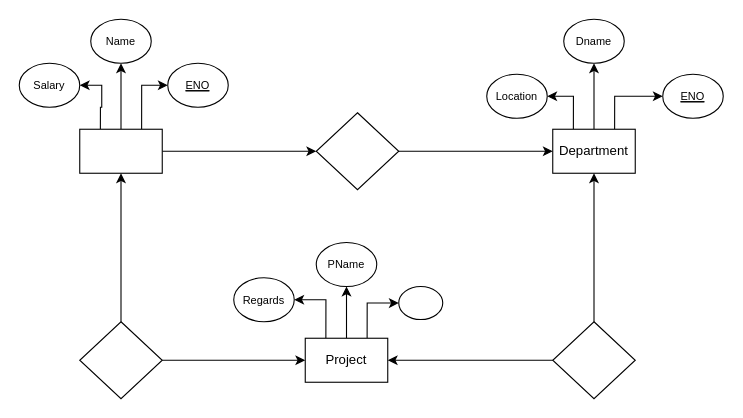
The diagram is 743 pixels wide and 418 high, and some of its shapes have lost their labels. The shapes that lost their labels are listed below. From the top down, each one's box as (x1, y1, x2, y2) in pixels, then its label:
(79, 128, 162, 173): Employee
(315, 112, 399, 190): Works_in
(398, 285, 443, 320): Pid
(79, 321, 162, 399): Works_on
(552, 321, 635, 399): Controls
